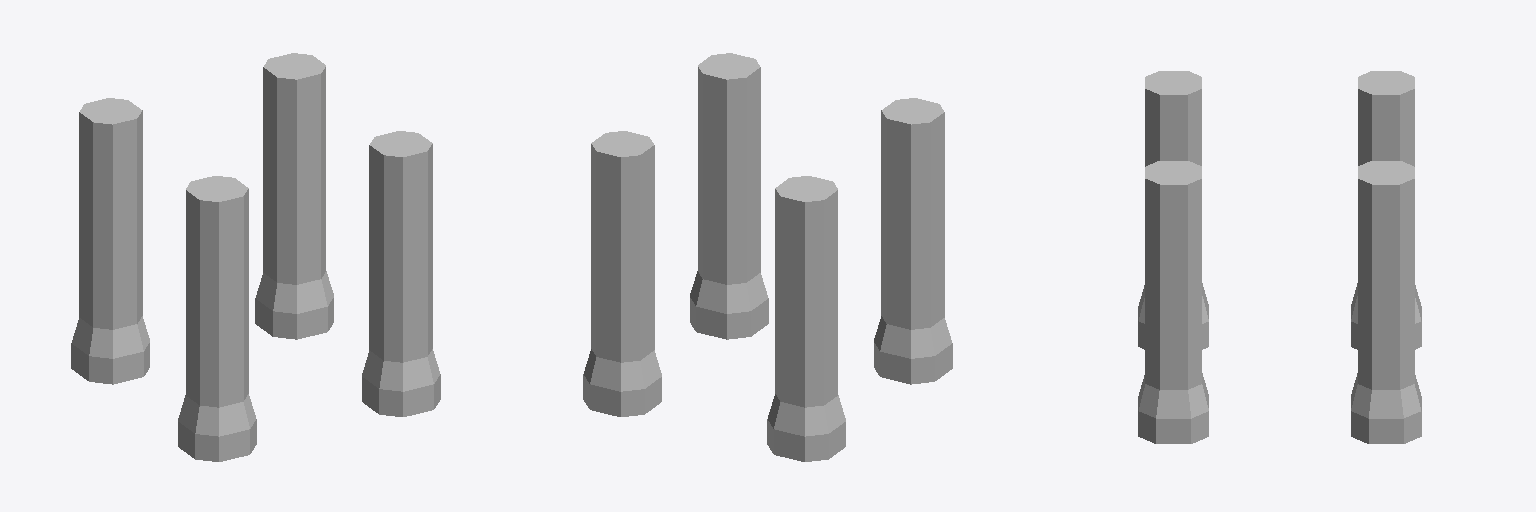
File: supports_bottom.obj
3 views of the same model, side by side, from view 1: azimuth 30°, elevation 25°; view 2: azimuth 150°, elevation 25°; view 3: azimuth 270°, elevation 25° (orthographic).
Parts seen in each view (by area): view 1: supports_bottom; view 2: supports_bottom; view 3: supports_bottom.
Part boxes in pixels (bbox=[...]): supports_bottom: bbox=[71, 53, 440, 461]; supports_bottom: bbox=[583, 53, 952, 461]; supports_bottom: bbox=[1138, 71, 1421, 443].
Size of the model in its own units: 1 by 1 by 1.